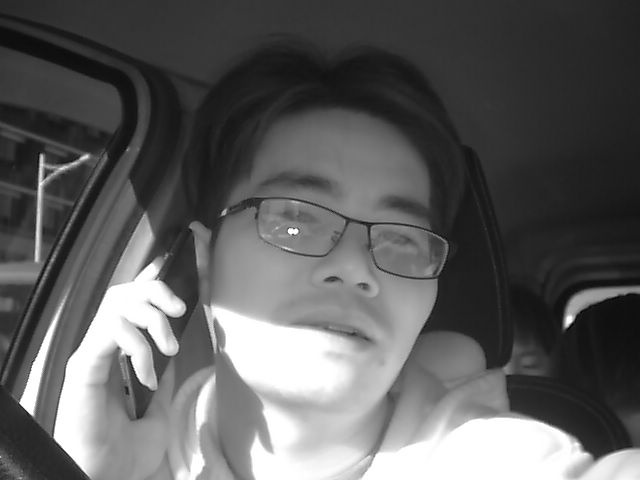hand: (65, 270, 181, 465)
